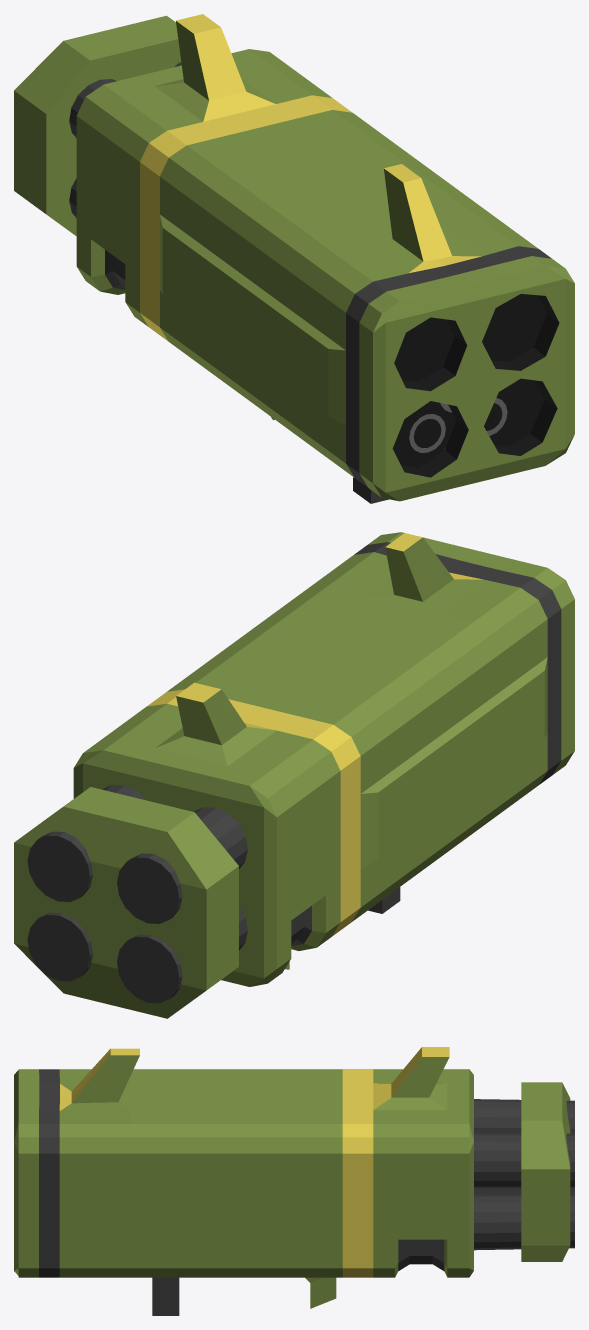
File: player_weapon.fbx
3 renders of one model, top to bottom at view 1: azimuth 30°, elevation 25°; view 2: azimuth 150°, elevation 25°; view 3: azimuth 270°, elevation 25°, orthographic. The views are drawn at different scales.
Parts seen in each view (by area): view 1: RPG, gatling_gun; view 2: RPG; view 3: RPG.
Boxes of the visible parts, x1=… form: RPG: x1=14, y1=14, x2=574, y2=503; gatling_gun: x1=409, y1=398, x2=507, y2=452; RPG: x1=14, y1=532, x2=574, y2=1018; RPG: x1=14, y1=1047, x2=574, y2=1315.
Size of the model in its own units: 0.8368 by 1.3 by 2.55.
